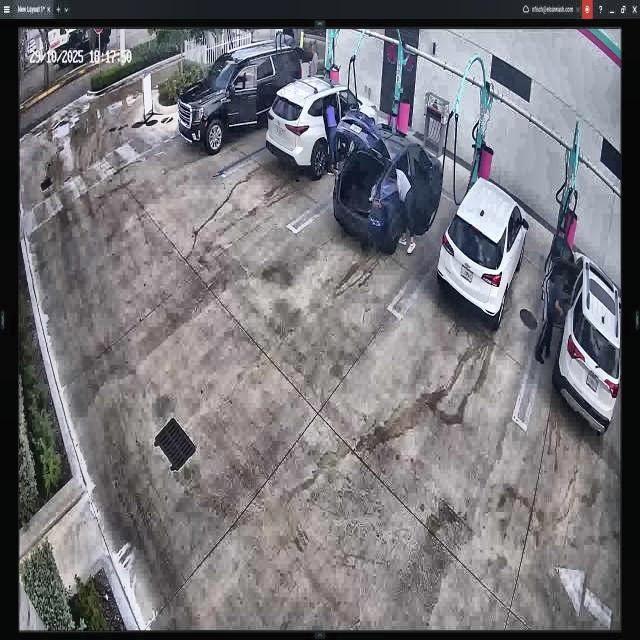Car: (334, 114, 444, 251), (438, 179, 528, 326), (267, 73, 378, 176)
